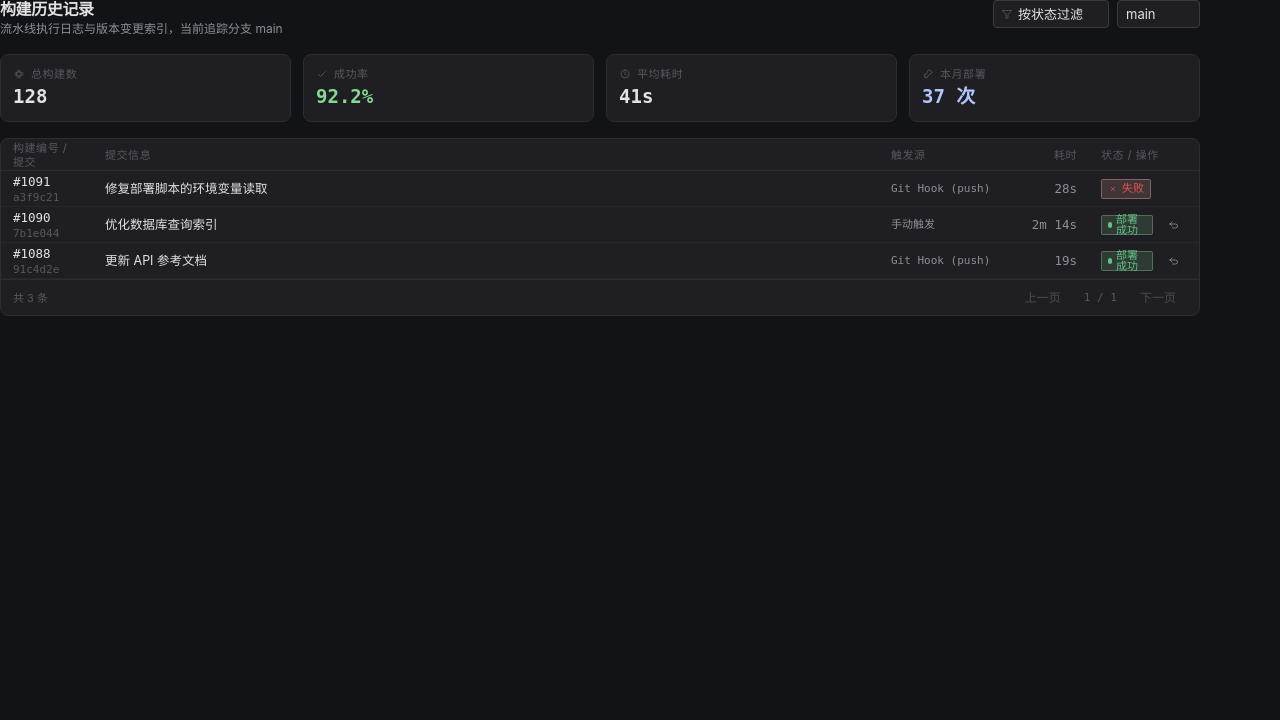
BuildHistoryView › 点回滚弹出确认框，且不会直接执行
The width and height of the screenshot is (1280, 720).
Click the button titled "回滚到此版本" in the row of "#1090" at (1174, 225), box left=1161, top=213, right=1187, bottom=237
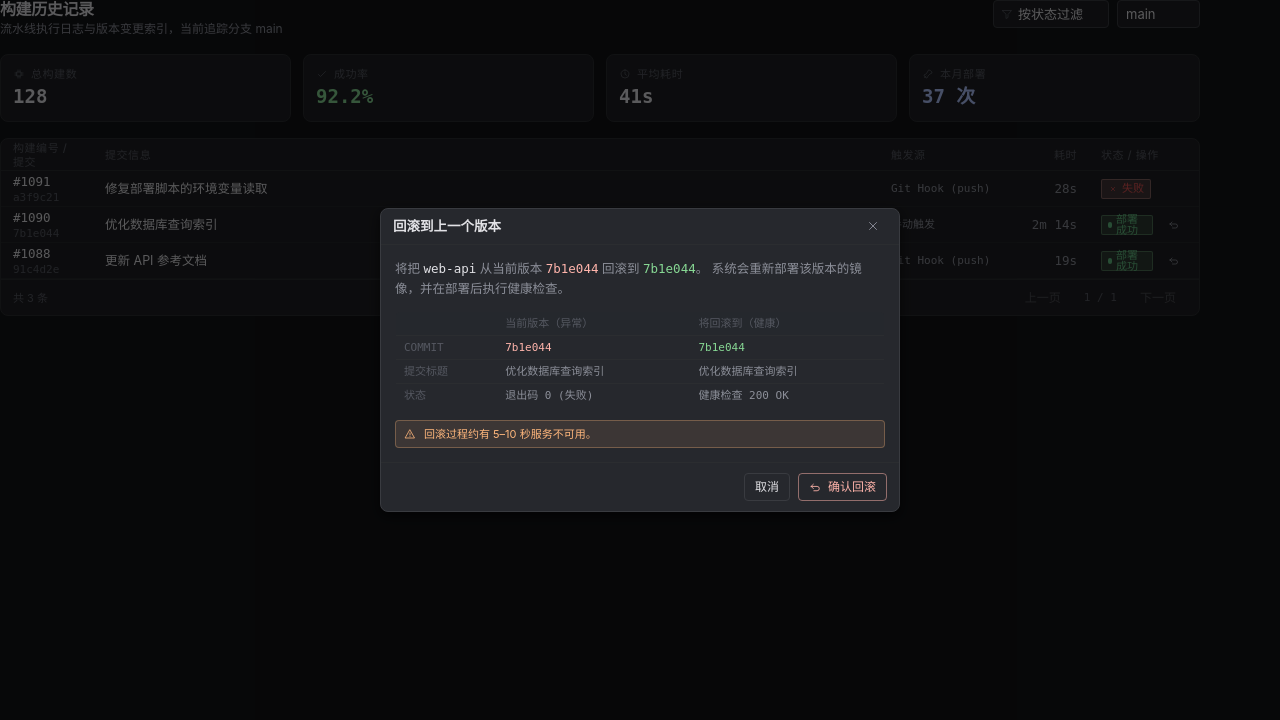
expect the dialog is shown: met
expect the text "回滚到上一个版本" is shown: met, box left=393, top=217, right=501, bottom=235
expect the text "5–10 秒服务不可用" is shown: met, box left=424, top=427, right=597, bottom=441
